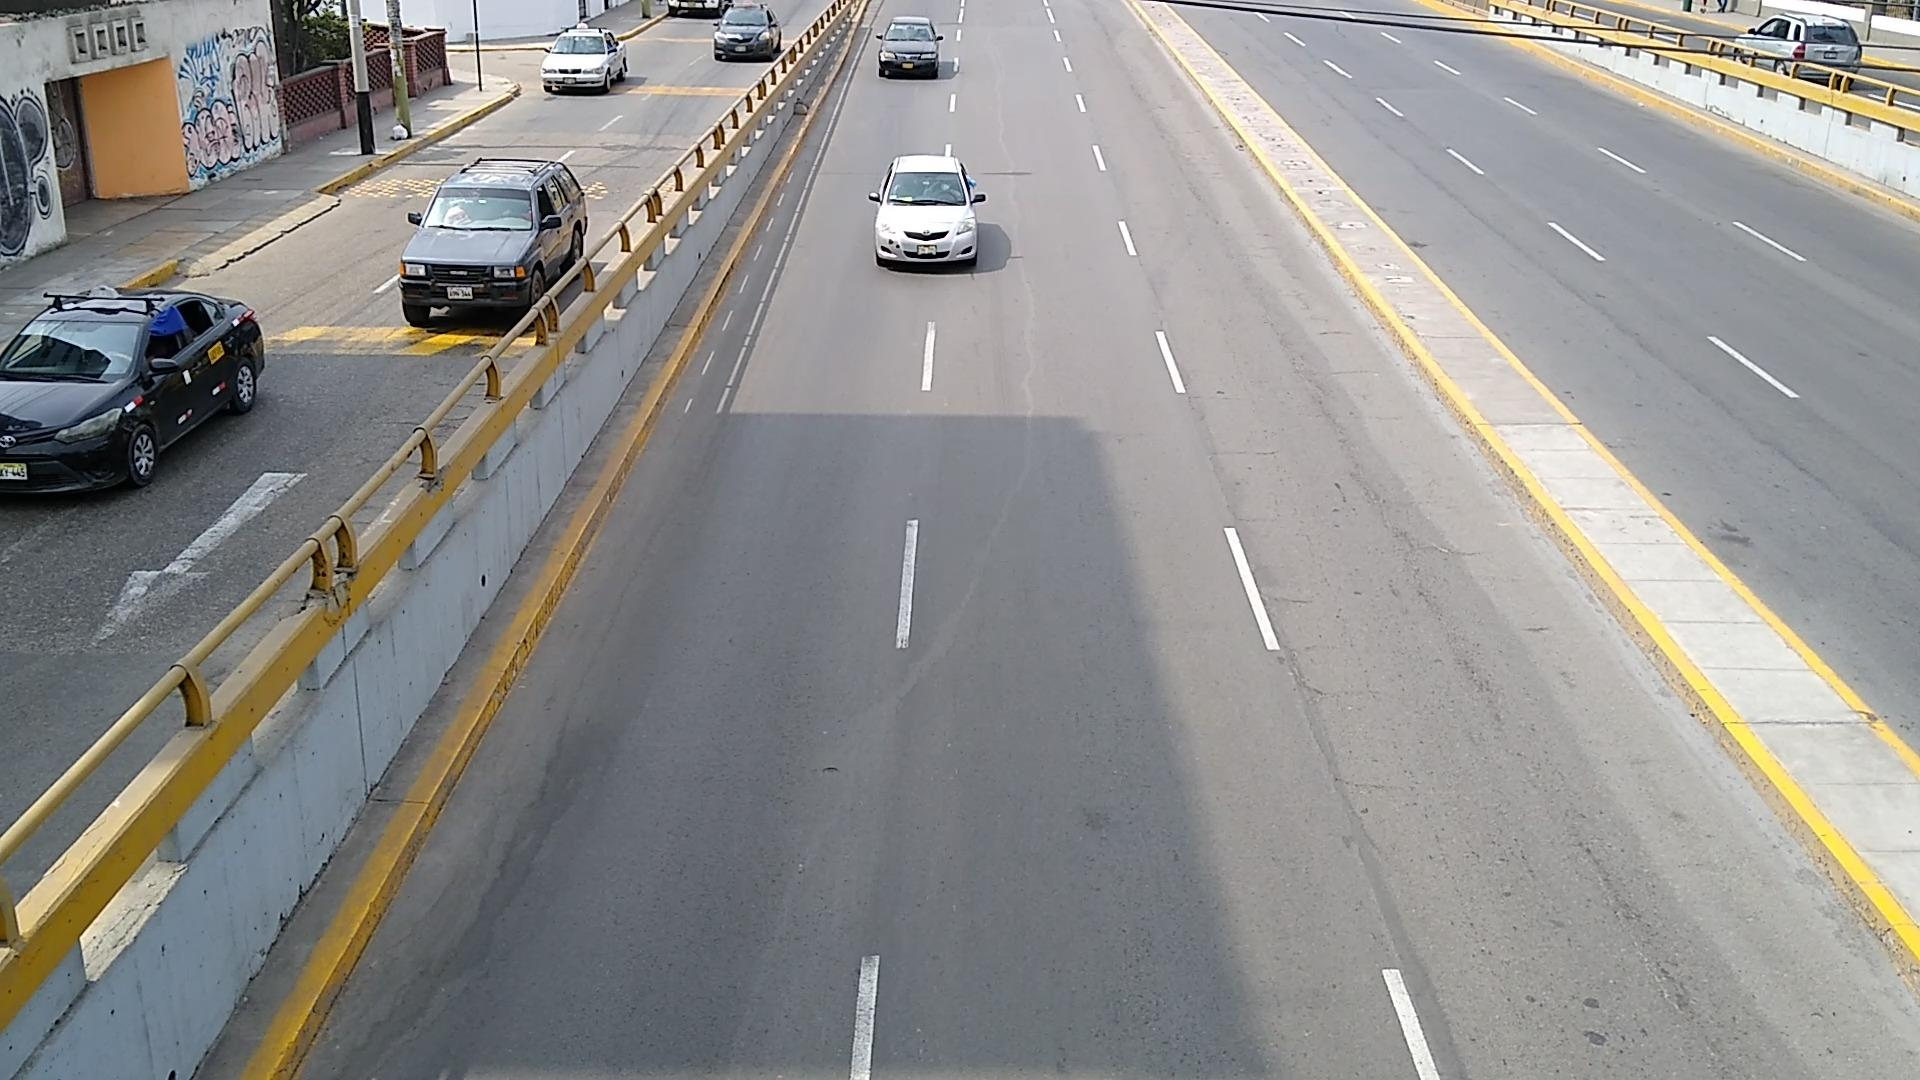car: (0, 289, 266, 493), (397, 157, 588, 326), (870, 154, 982, 266), (1741, 15, 1859, 70), (541, 26, 626, 94), (712, 4, 781, 61), (877, 18, 942, 76)
